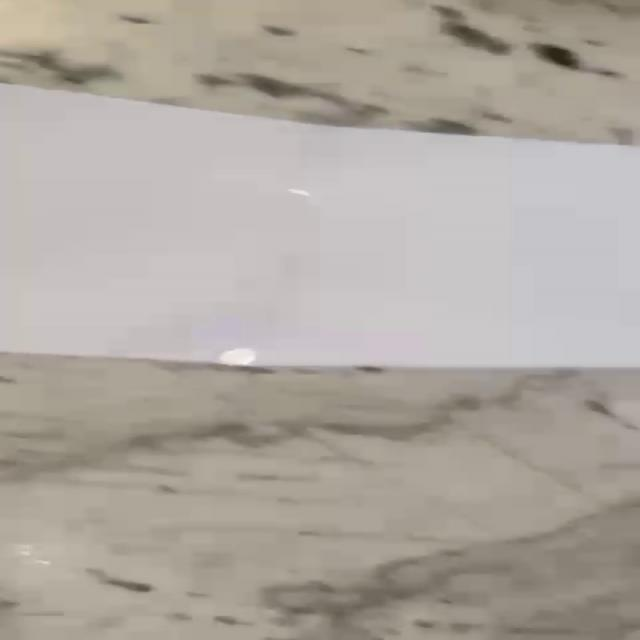road: (0, 84, 640, 369)
